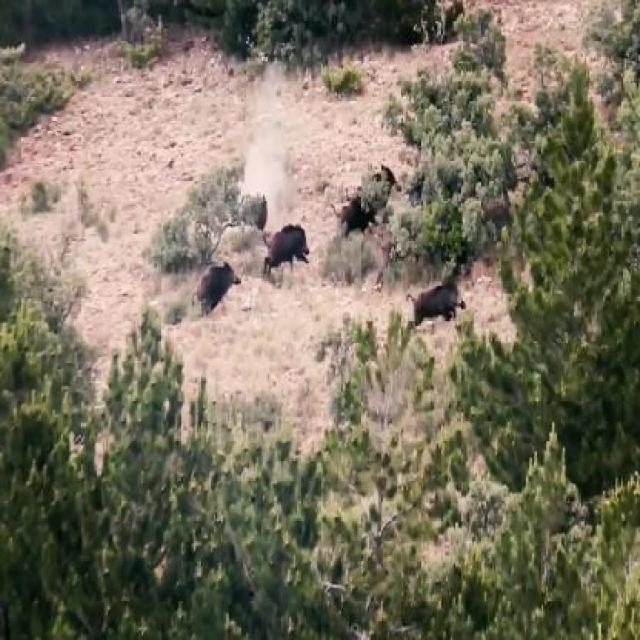pig: (248, 202, 334, 280), (346, 126, 398, 242), (416, 253, 476, 344), (200, 242, 243, 323), (238, 184, 276, 223)
